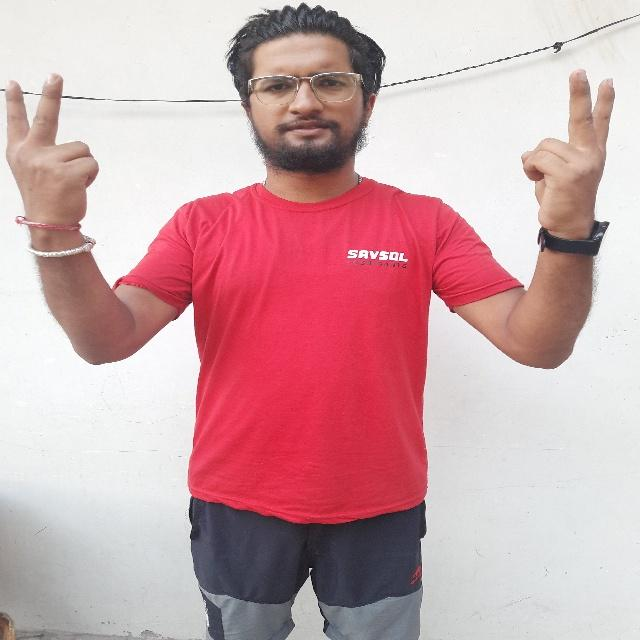Reversed Victory: (514, 62, 622, 258), (2, 68, 106, 252)
